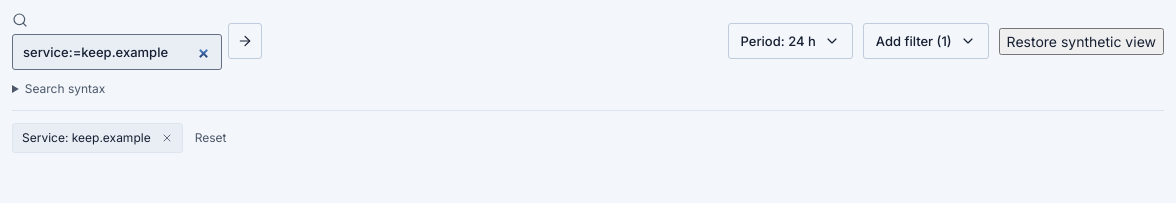
Scenario: does not broaden or partially apply invalid input action:[
Click the search field: [117, 52] box [12,34,222,70]
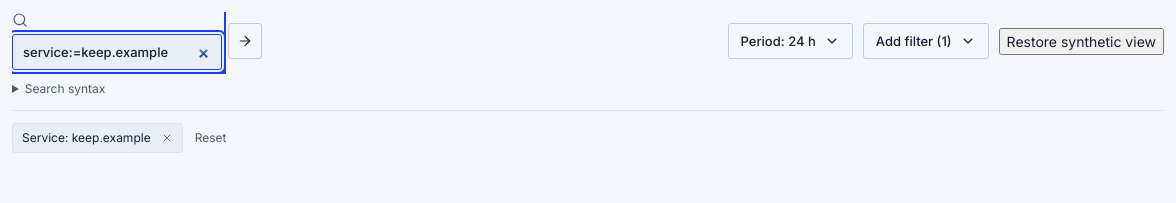
Type keys "{Control>}a{/Control}"
Type keys "action:["
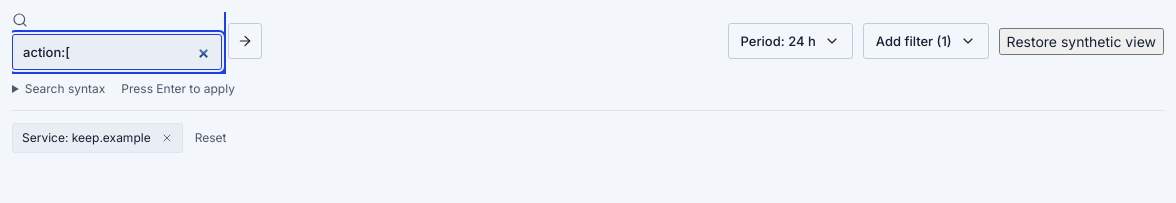
Press Enter
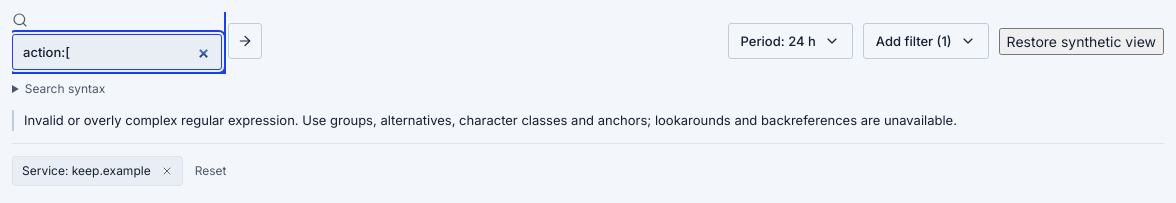
Expected: the button "Service: keep.example" is shown, [22,162,151,180]
Expected: the message is shown, [12,110,1164,131]
